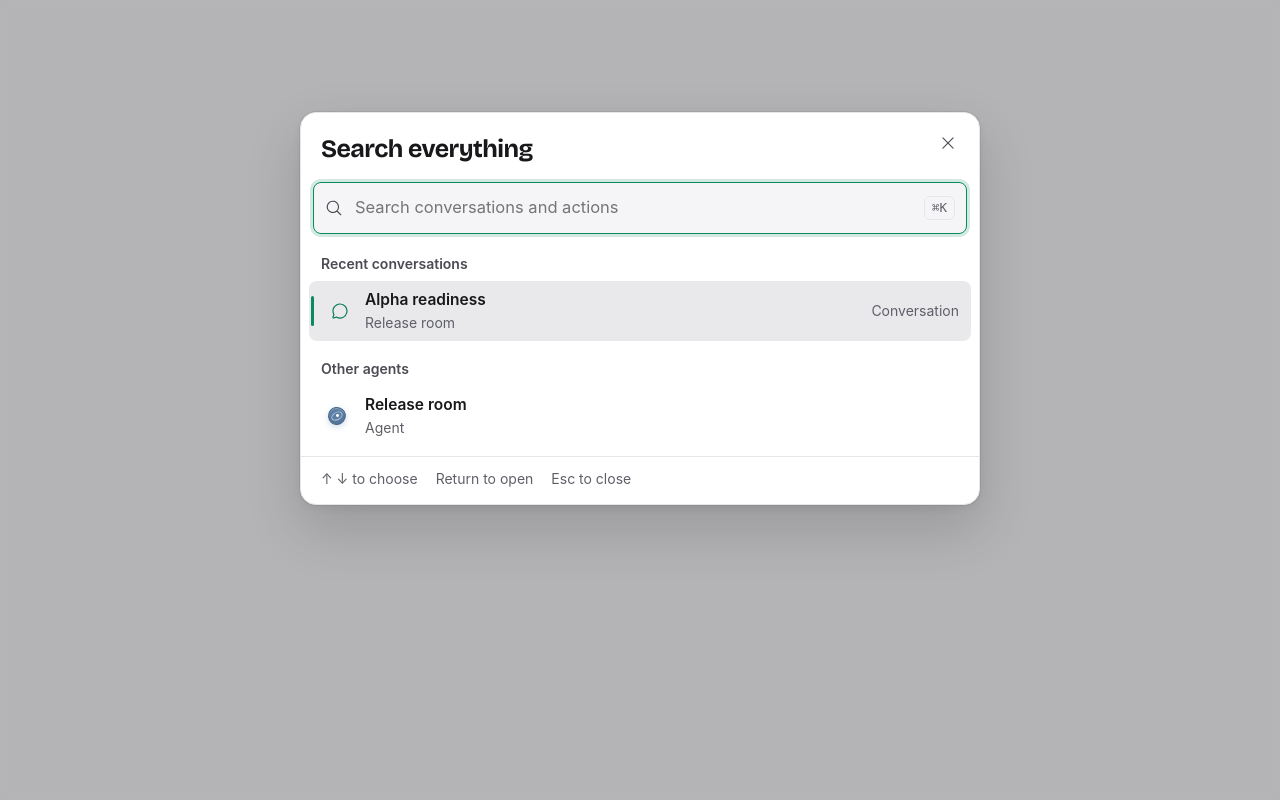
Test: QuickSwitcher resources › ranks a title match above message excerpts and does not list it twice
This screenshot has width=1280, height=800.
In the dropdown: (633, 208) top-left (353, 183), bottom-right (914, 233), type "alpha"
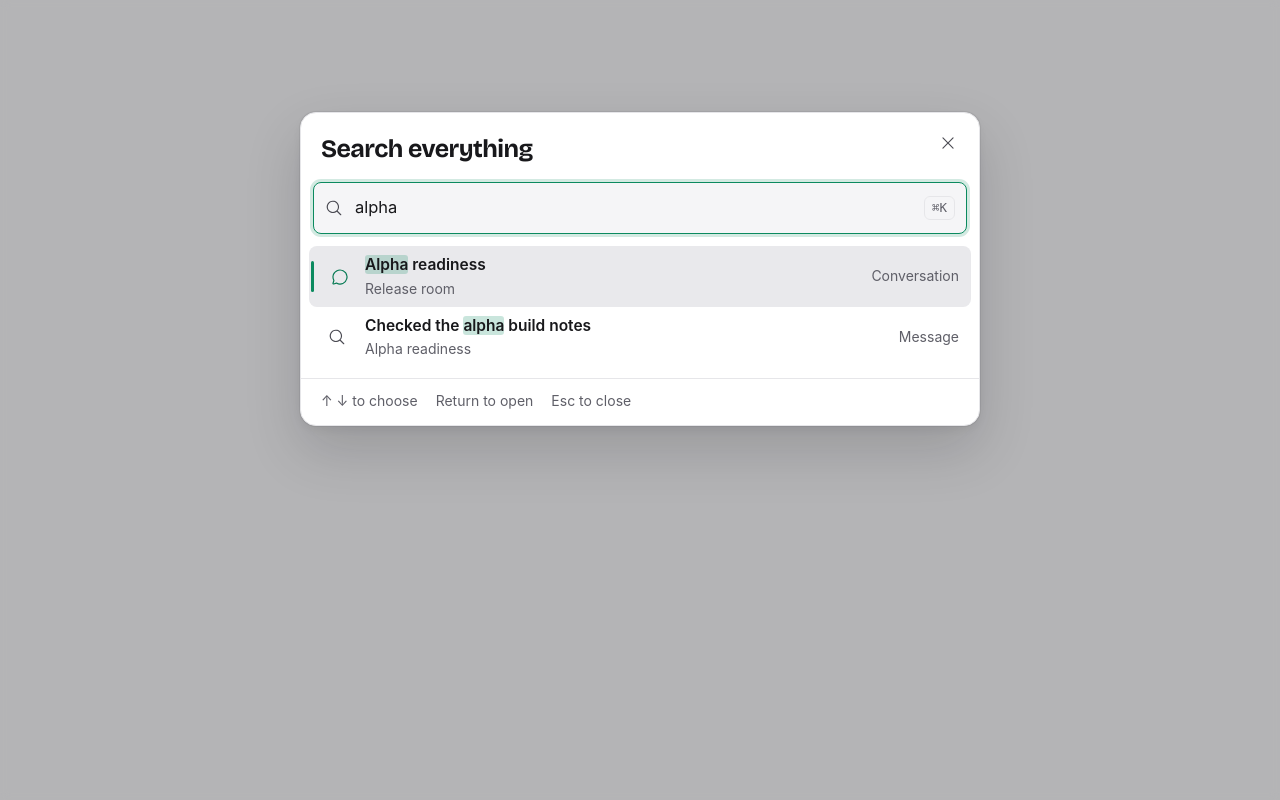
Expected: the number of options is 2, top-left (309, 246), bottom-right (971, 307); top-left (309, 307), bottom-right (971, 368)
Now the option "Checked the alpha build notes Alpha readiness Message" is shown, box top-left (309, 307), bottom-right (971, 368)
